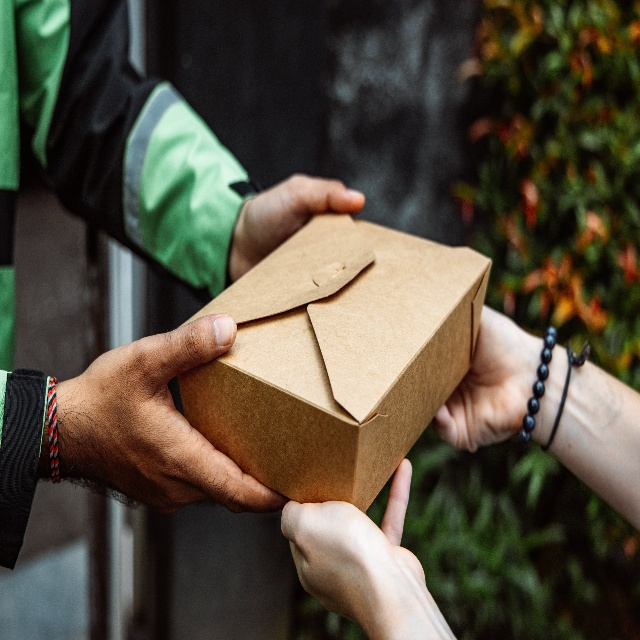Sin_guantes: (75, 310, 285, 514), (278, 458, 425, 619), (432, 299, 536, 452), (229, 175, 366, 278)
